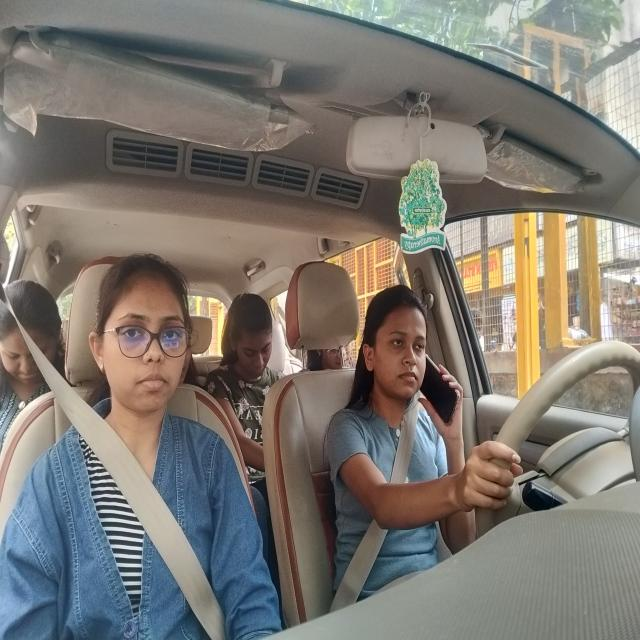mobile: (422, 354, 462, 426)
person: (86, 247, 192, 413), (363, 285, 432, 406), (0, 281, 69, 395), (223, 292, 272, 384), (181, 314, 204, 391), (315, 344, 359, 372)
